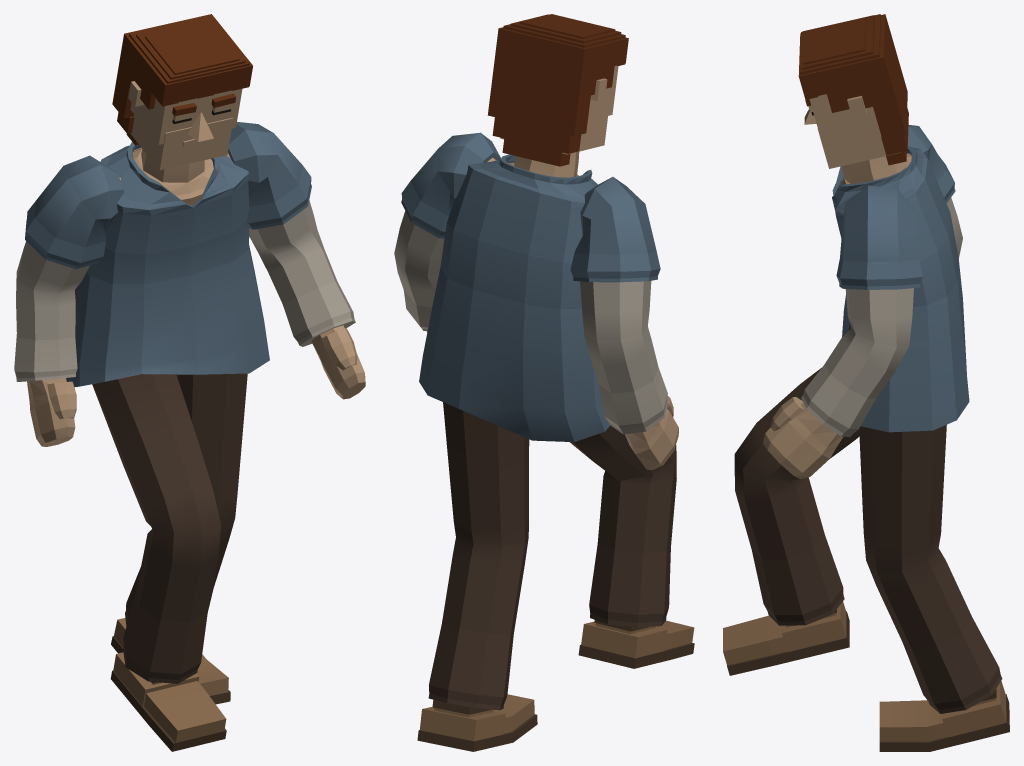
File: suburban-resident-a9db9c__walk3.glb
3 renders of one model, left to right at view 1: azimuth 30°, elevation 25°; view 2: azimuth 150°, elevation 25°; view 3: azimuth 270°, elevation 25°, orthographic.
Parts seen in each view (by area): view 1: suburban-resident-a9db9c__walk3; view 2: suburban-resident-a9db9c__walk3; view 3: suburban-resident-a9db9c__walk3.
Boxes of the visible parts, x1,y1,x2,y2 form: suburban-resident-a9db9c__walk3: (14,14,365,751); suburban-resident-a9db9c__walk3: (394,14,694,751); suburban-resident-a9db9c__walk3: (723,14,1009,751).
Size of the model in its own units: 0.7667 by 1.72 by 0.6492.
